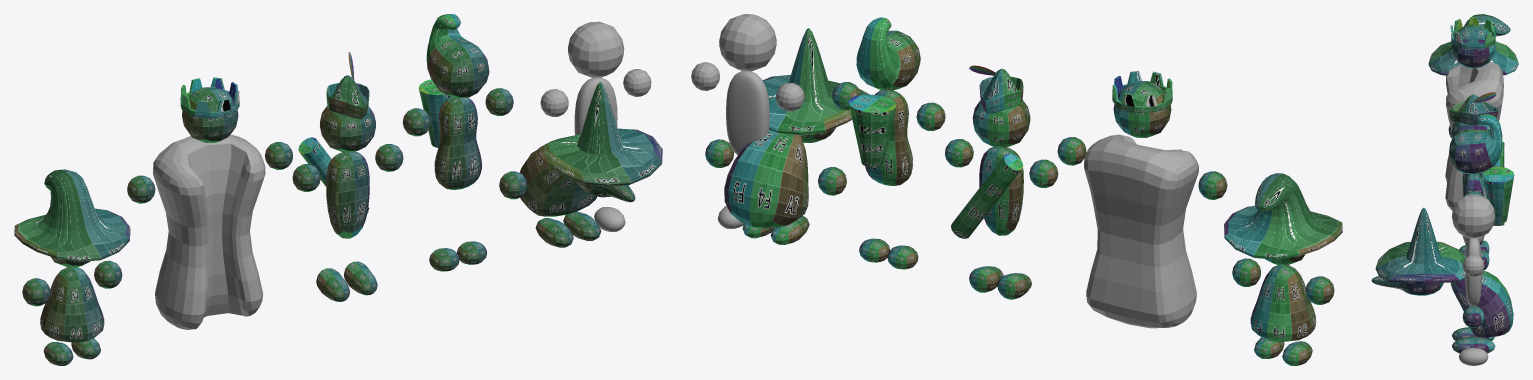
Rendered from Alchemist WIP.fbx.
3 renders of one model, left to right at view 1: azimuth 30°, elevation 25°; view 2: azimuth 150°, elevation 25°; view 3: azimuth 270°, elevation 25°, orthographic. The views are drawn at different scales.
Parts seen in each view (by area): view 1: King_Body, Witch_Hat, Alchemist_Hat, Serf_Head, Alchemist_Body, Serf_Body, Archer_Body, Witch_Body, Base_Head, King_Head, Archer_Head, Archer_Hat (+24 smaller); view 2: King_Body, Witch_Body, Alchemist_Hat, Witch_Hat, Alchemist_Body, Serf_Head, Base_Body, Base_Head, Serf_Basket, Serf_Body, Archer_Arrow_Sack, Archer_Body (+22 smaller); view 3: Witch_Hat, King_Body, Serf_Head, Witch_Body, Alchemist_Hat, Base_Head, Serf_Basket, King_Head, Archer_Hat, King_Crown, Base_Body, Witch_Head (+10 smaller).
Part boxes in pixels (left/top/right/bottom): King_Body: left=153, top=134, right=265, bottom=329; Witch_Hat: left=538, top=82, right=662, bottom=187; Alchemist_Hat: left=14, top=169, right=130, bottom=261; Serf_Head: left=426, top=14, right=489, bottom=98; Alchemist_Body: left=40, top=267, right=104, bottom=342; Serf_Body: left=434, top=97, right=481, bottom=189; Archer_Body: left=326, top=151, right=369, bottom=238; Witch_Body: left=520, top=149, right=597, bottom=216; Base_Head: left=568, top=21, right=624, bottom=77; King_Head: left=182, top=87, right=238, bottom=142; Archer_Head: left=320, top=106, right=375, bottom=152; Archer_Hat: left=326, top=75, right=369, bottom=119; King_Body: left=1084, top=134, right=1198, bottom=328; Witch_Body: left=724, top=129, right=808, bottom=229; Alchemist_Hat: left=1224, top=173, right=1342, bottom=259; Witch_Hat: left=763, top=28, right=869, bottom=135; Alchemist_Body: left=1250, top=265, right=1316, bottom=341; Serf_Head: left=856, top=17, right=920, bottom=90; Base_Body: left=726, top=71, right=769, bottom=155; Base_Head: left=719, top=14, right=776, bottom=71; Serf_Basket: left=848, top=94, right=896, bottom=167; Serf_Body: left=865, top=90, right=912, bottom=185; Archer_Arrow_Sack: left=951, top=153, right=1023, bottom=238; Archer_Body: left=979, top=147, right=1023, bottom=235; Witch_Hat: left=1375, top=207, right=1465, bottom=283; King_Body: left=1445, top=61, right=1503, bottom=210; Serf_Head: left=1449, top=114, right=1502, bottom=174; Witch_Body: left=1450, top=270, right=1513, bottom=337; Alchemist_Hat: left=1428, top=14, right=1518, bottom=75; Base_Head: left=1451, top=194, right=1495, bottom=238; Serf_Basket: left=1482, top=167, right=1514, bottom=223; King_Head: left=1451, top=24, right=1495, bottom=68; Archer_Hat: left=1449, top=94, right=1498, bottom=125; King_Crown: left=1450, top=17, right=1496, bottom=49; Base_Body: left=1465, top=238, right=1482, bottom=306; Witch_Head: left=1371, top=276, right=1443, bottom=295.
Bounding box in the file's own units: 22.75 × 8.52 × 5.92.
2 materials, 1 textured.
